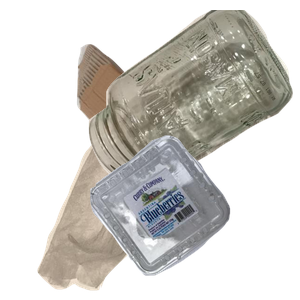cardboard: (74, 42, 225, 170)
glass: (86, 10, 300, 184)
plastic: (88, 133, 300, 300)
trash: (35, 140, 203, 300)
